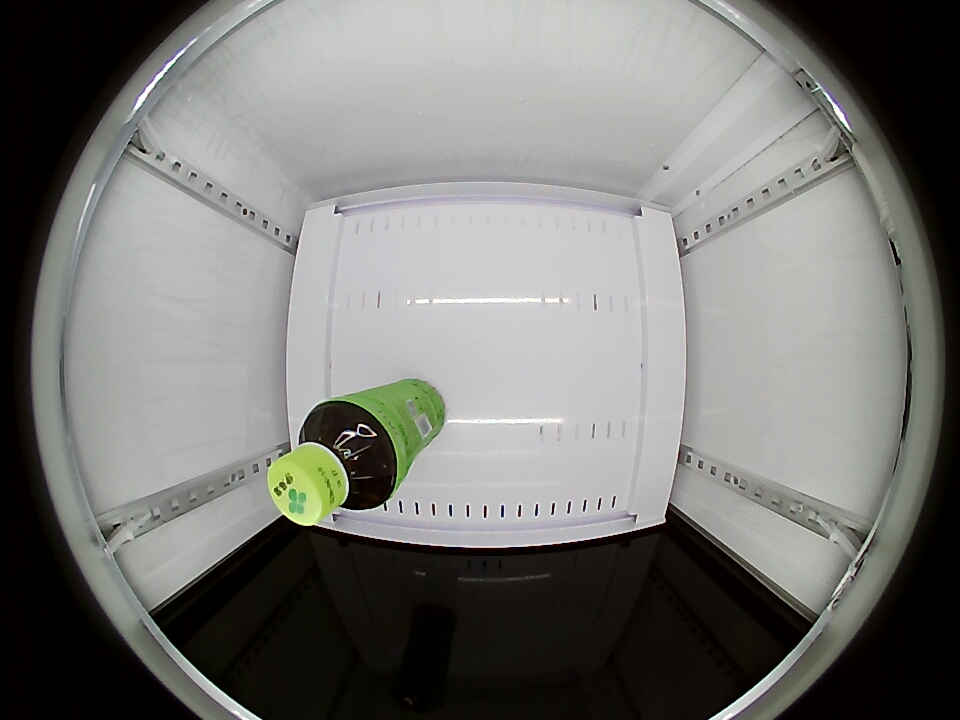yitengyuan: (268, 400, 400, 526)
